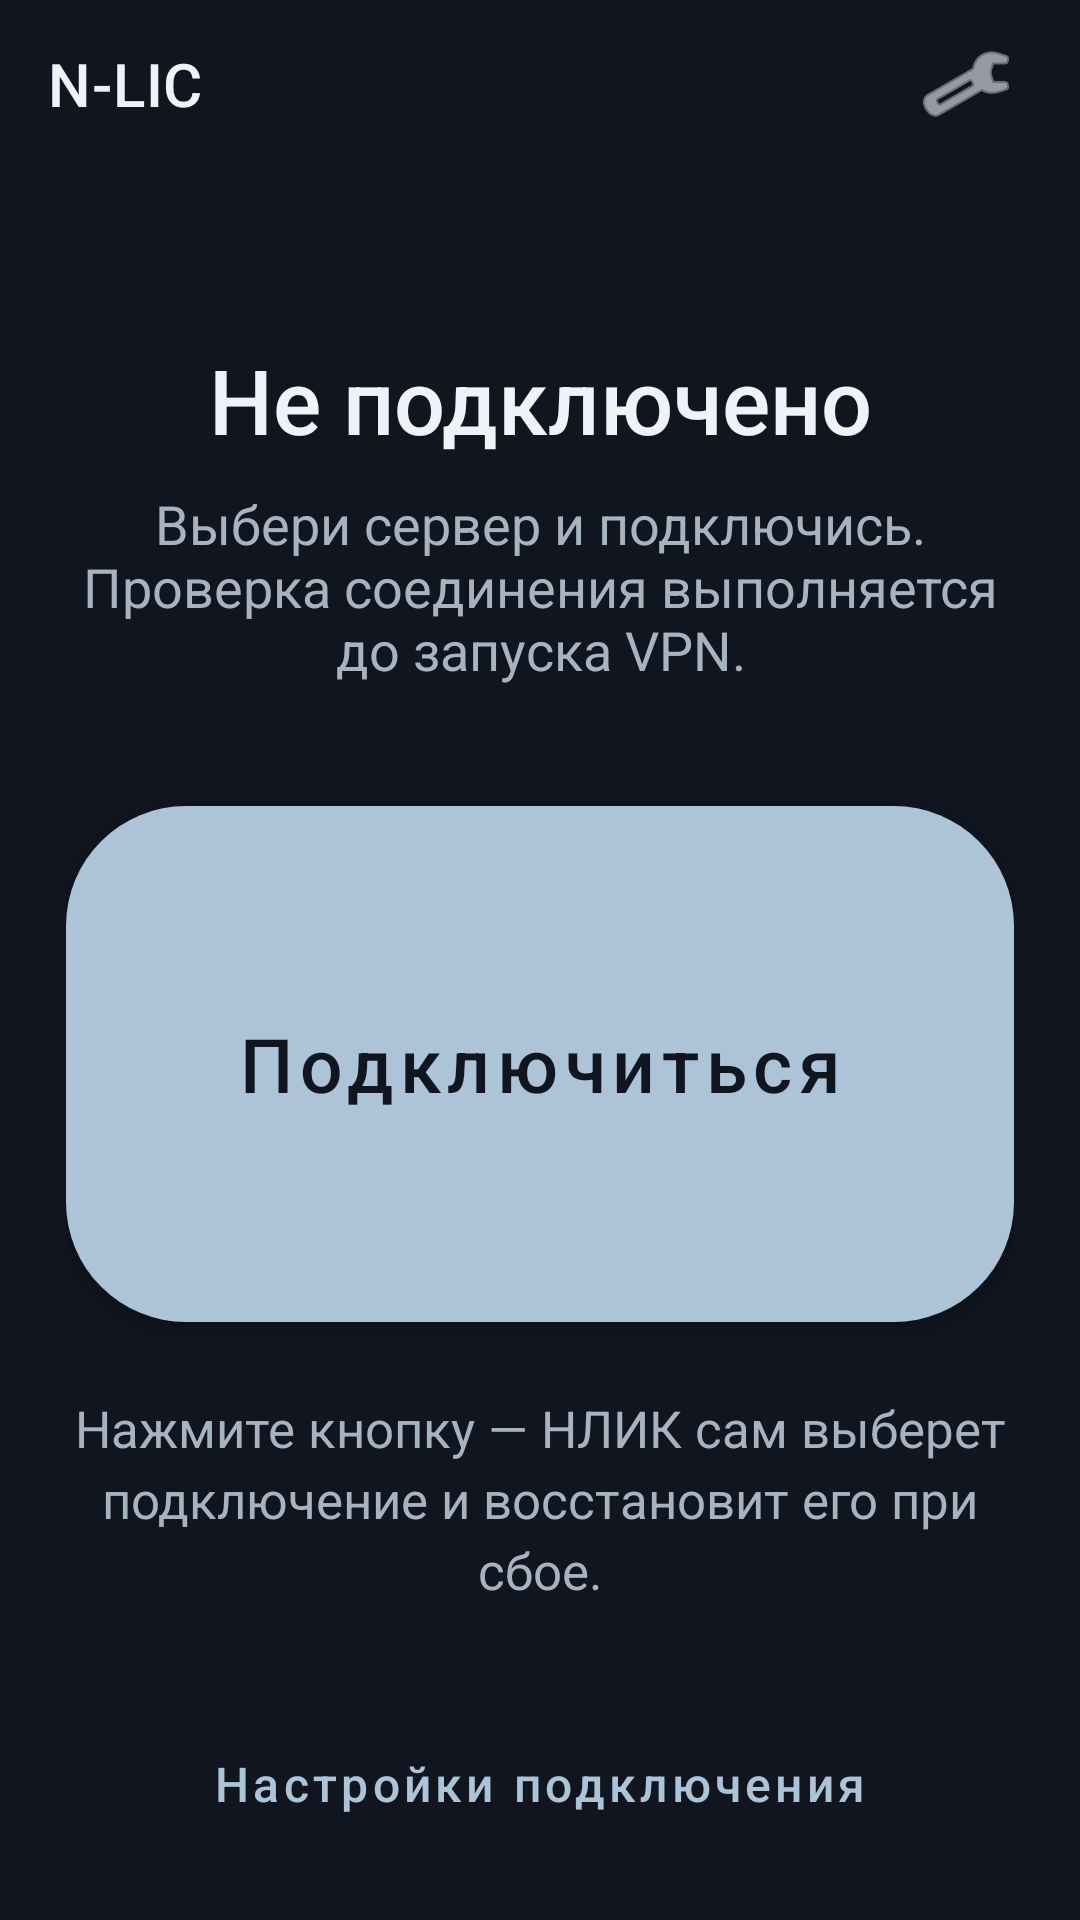

Icon click points for this 1080×1920 phone screenshot, format (x,y):
Настройки: (966,84)
